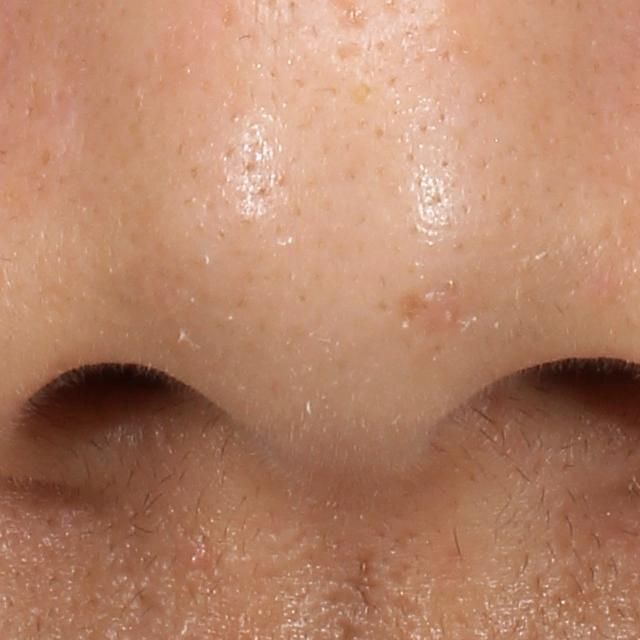atrophic_scar: (345, 544, 378, 609), (330, 38, 365, 69)
